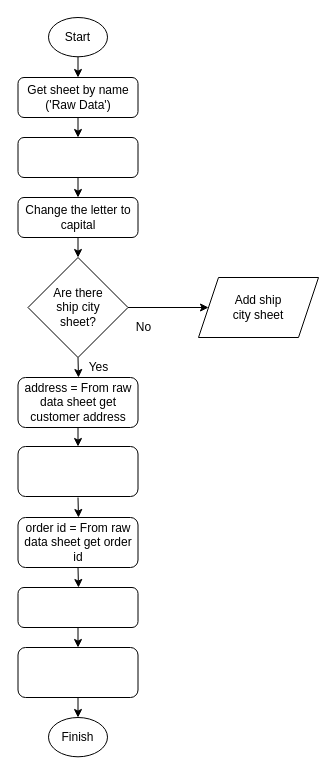
This 336x775 diagram has some shape labels left out. The box of each missing label's shape, as (x1, y1, x2, y2) in pixels:
city = From raw data sheet get ship city: (17, 586, 138, 628)
Get ship city values: (17, 136, 138, 178)
name = From raw data sheet get customer name: (17, 446, 138, 496)
sheet <city> set formula [address, name, order id]: (17, 646, 138, 698)
